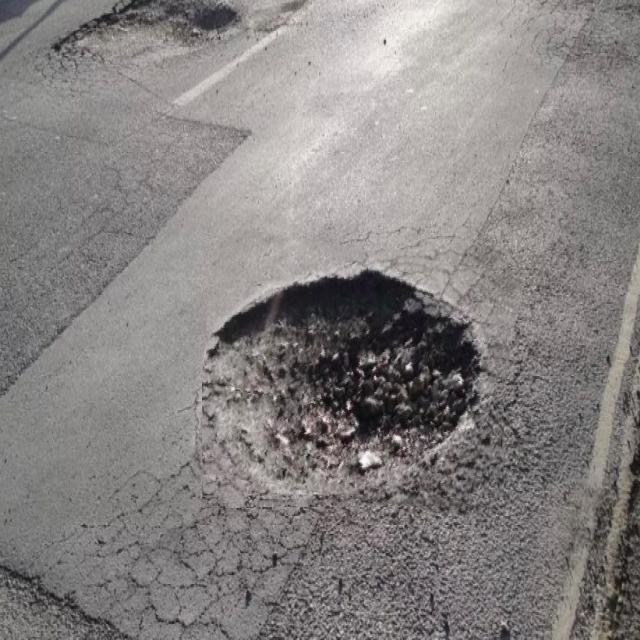Pothole: (202, 239, 513, 508)
